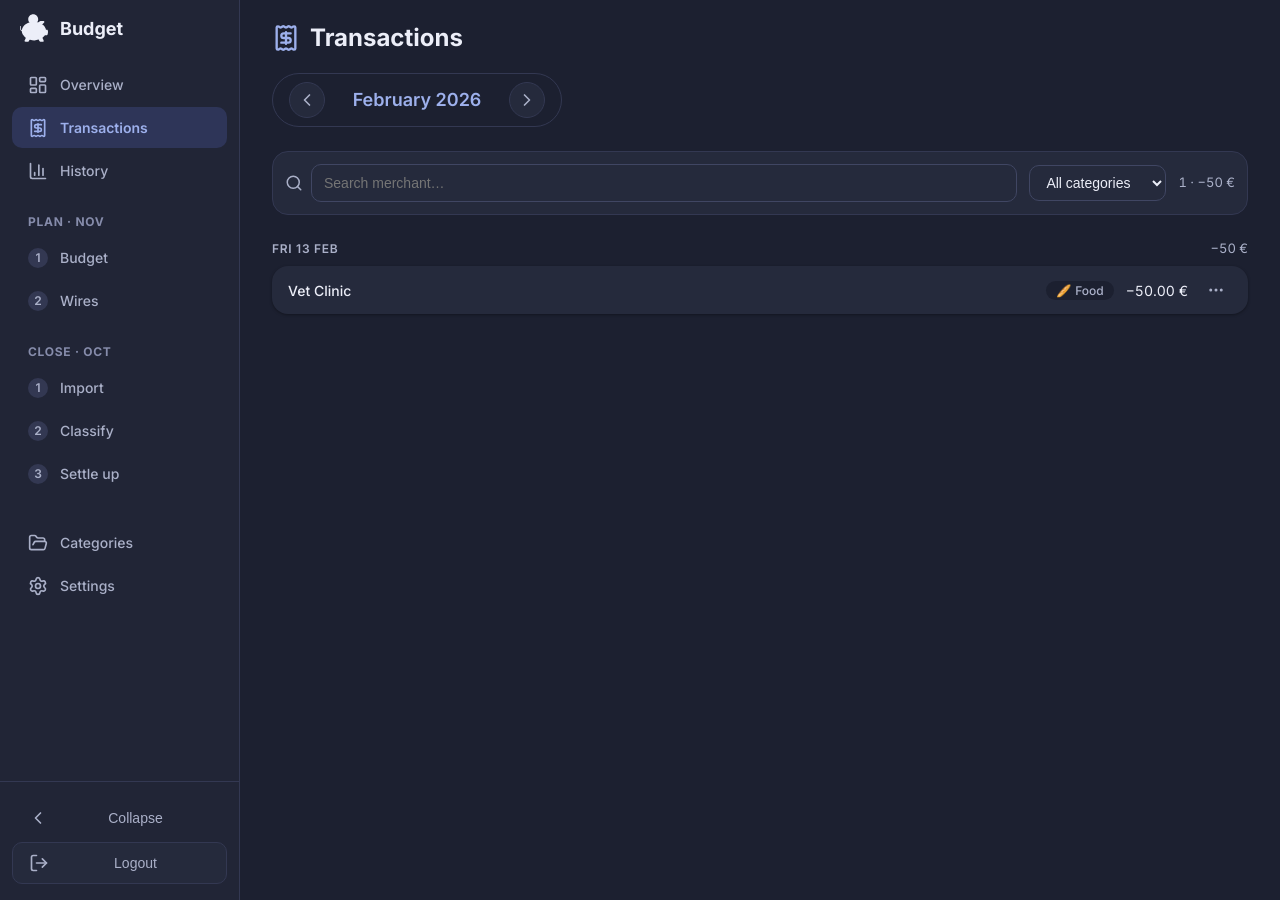
Transactions Page › should open the reimburse modal from the menu
The width and height of the screenshot is (1280, 900).
Click the button named "Actions for Vet Clinic": x=1216, y=290 [1200,274,1232,306]
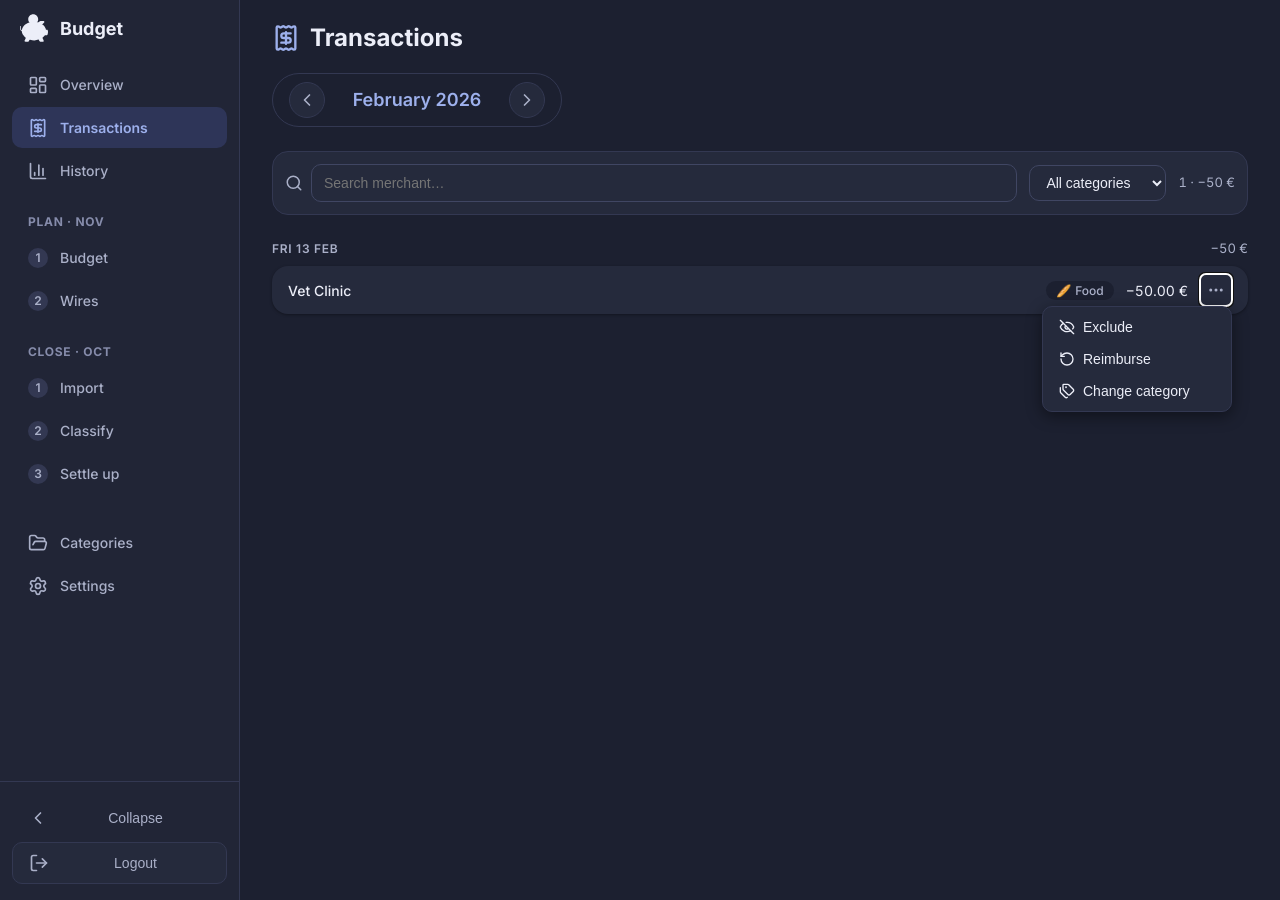
Click the menu item "Reimburse": x=1137, y=359 [1047,343,1227,375]
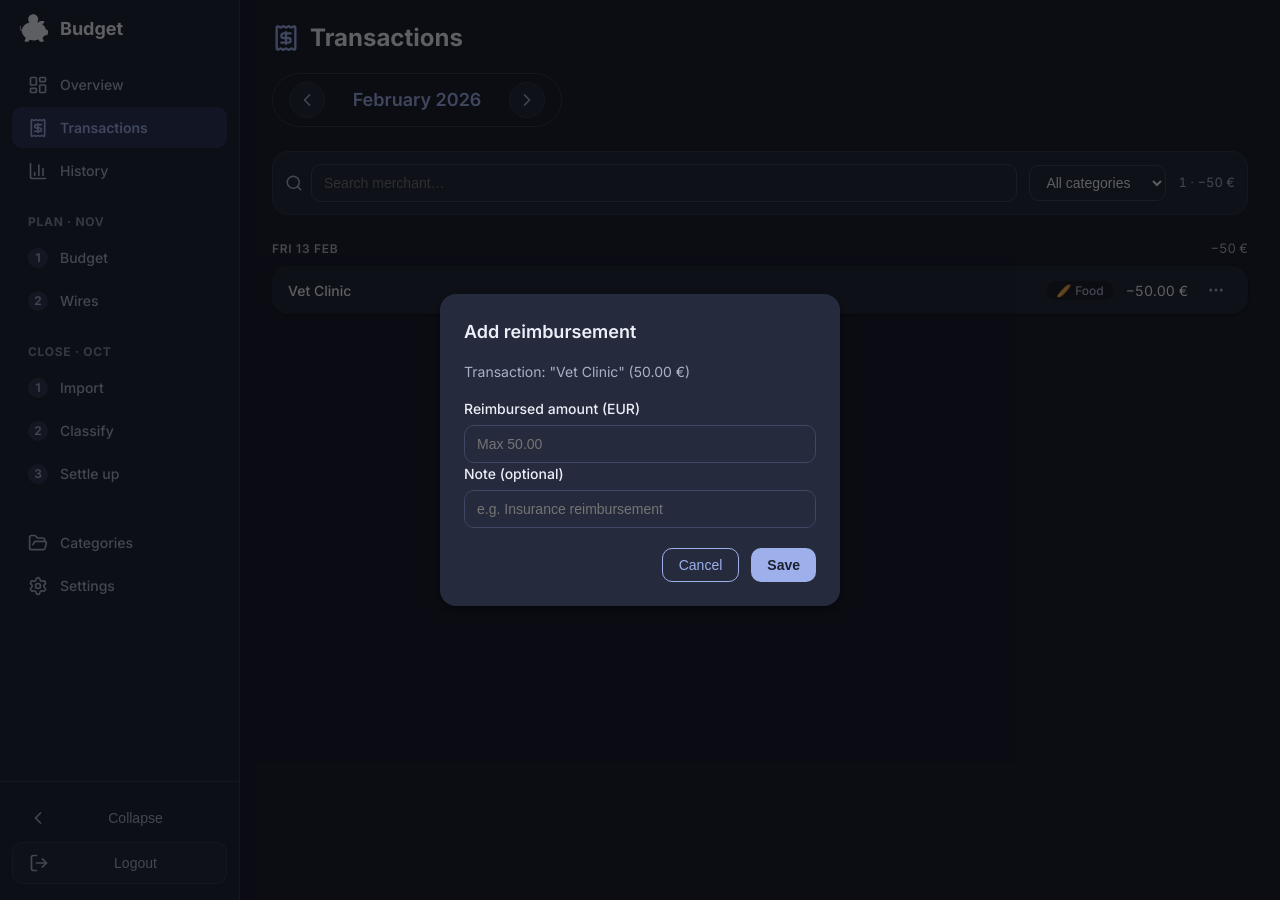
Expected: the heading "Add reimbursement" is shown, [464,321,636,342]
Expected: the field with placeholder "e.g. Insurance reimbursement" is shown, [464,490,816,528]
